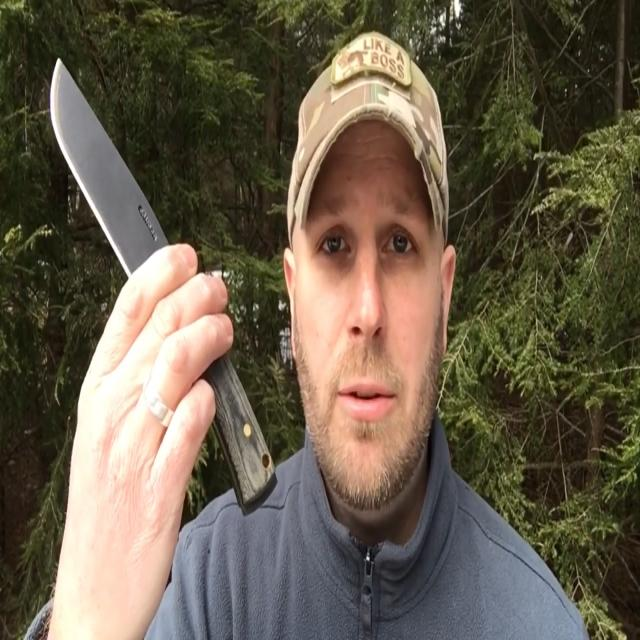knife: (50, 55, 282, 504)
